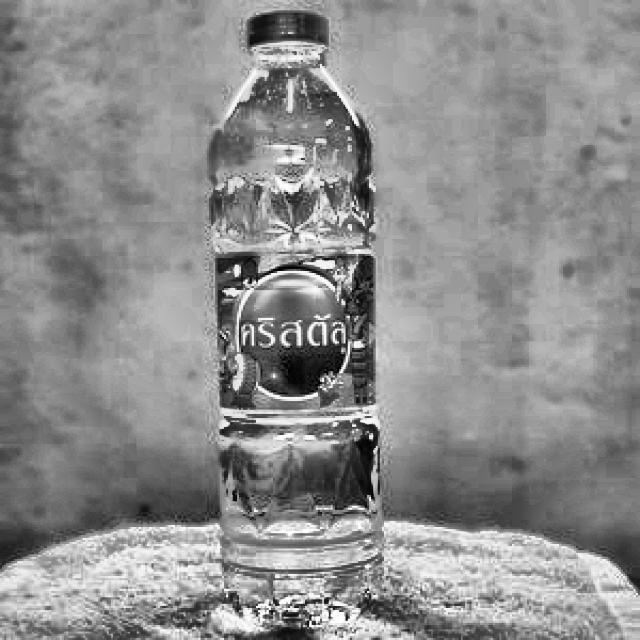waterbottle: (190, 0, 401, 638)
